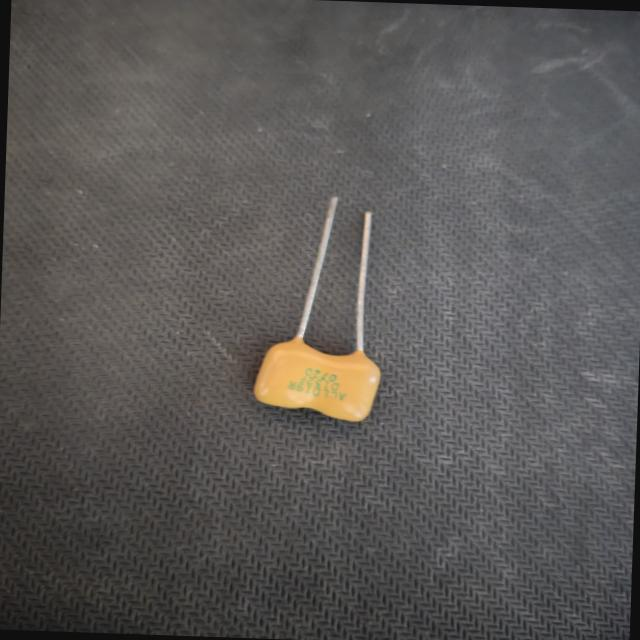resistor: (242, 185, 409, 431)
